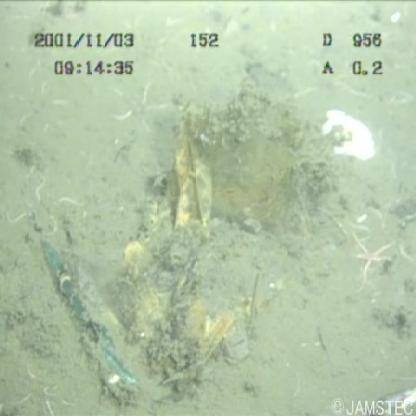Bio: (340, 226, 396, 292)
Rác: (26, 100, 288, 405)
